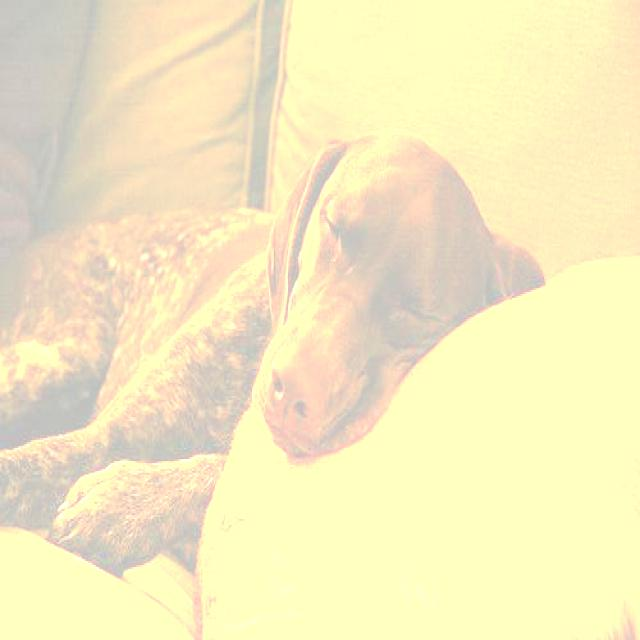Dog: (24, 144, 558, 578)
